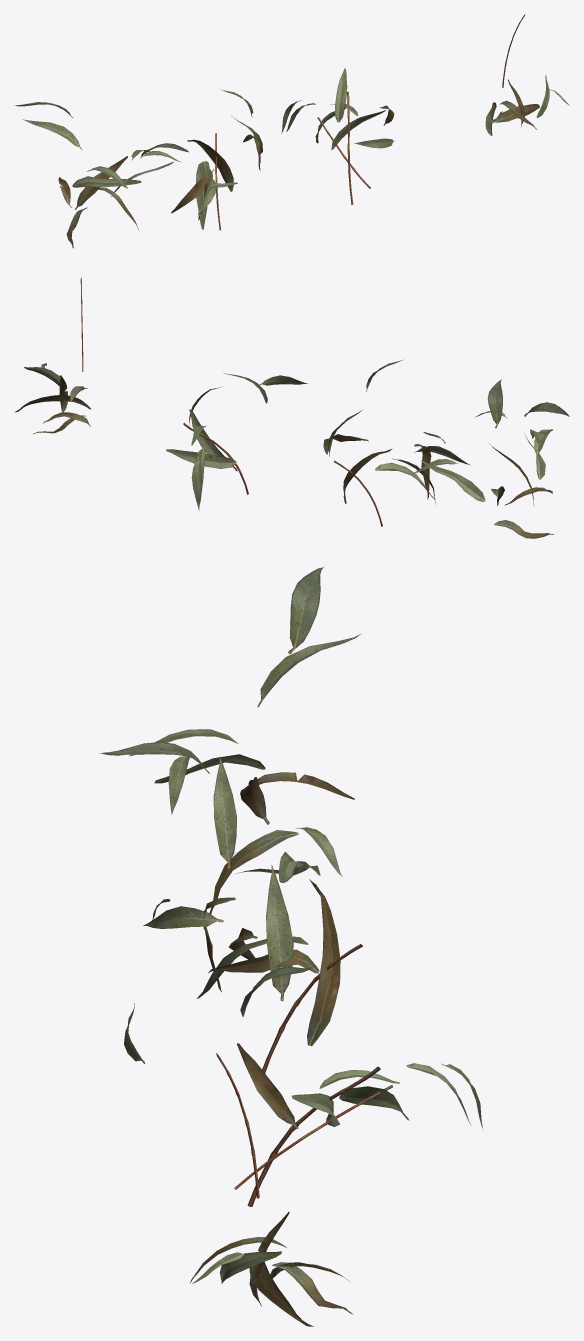
The model's file is shrub_02.glb.
3 views of the same model, one above another, from view 1: azimuth 30°, elevation 25°; view 2: azimuth 150°, elevation 25°; view 3: azimuth 270°, elevation 25° (orthographic). The views are drawn at different scales.
Parts seen in each view (by area): view 1: shrub_02_a, shrub_02_b, shrub_02_c, shrub_02_d; view 2: shrub_02_a, shrub_02_c, shrub_02_b, shrub_02_d; view 3: shrub_02_b, shrub_02_a, shrub_02_c, shrub_02_d.
Boxes of the visible parts, bbox=[...] form: shrub_02_a: bbox=[14, 102, 188, 248]; shrub_02_b: bbox=[171, 89, 262, 230]; shrub_02_c: bbox=[281, 68, 394, 204]; shrub_02_d: bbox=[485, 14, 569, 135]; shrub_02_a: bbox=[412, 379, 569, 538]; shrub_02_c: bbox=[166, 372, 307, 510]; shrub_02_b: bbox=[323, 359, 470, 526]; shrub_02_d: bbox=[14, 277, 90, 434]; shrub_02_b: bbox=[143, 756, 362, 1073]; shrub_02_a: bbox=[99, 567, 360, 913]; shrub_02_c: bbox=[124, 967, 483, 1206]; shrub_02_d: bbox=[190, 1053, 353, 1326].
Size of the model in its own units: 6.19 by 1.88 by 1.97.
Materials: 1 (1 with a texture image).
